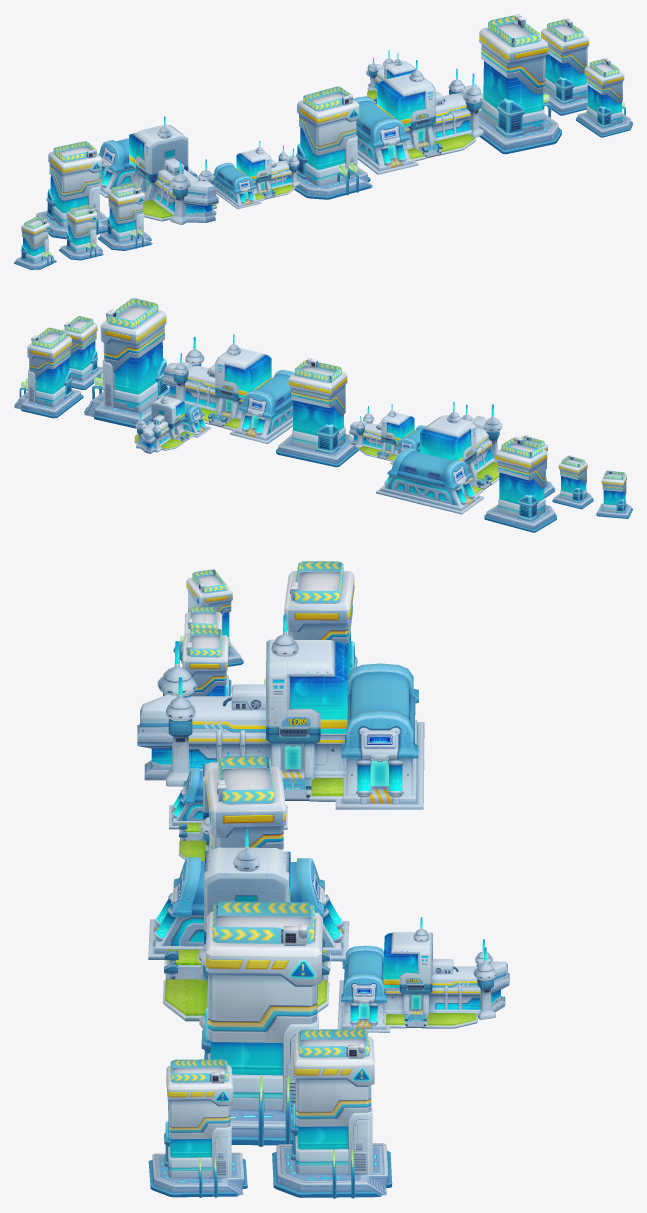
The model's file is level1.glb.
The picture shows the model from 3 angles, top to bottom: view 1: azimuth 30°, elevation 25°; view 2: azimuth 150°, elevation 25°; view 3: azimuth 270°, elevation 25°; orthographic projection. The views are drawn at different scales.
Visible parts, largest first — view 1: xszy_jianzhu_07_xszy_jianzhu_07_0.001, xszy_jianzhu_01_xszy_jianzhu_01_0, xszy_jianzhu_01_xszy_jianzhu_01_0.001, xszy_jianzhu_07_xszy_jianzhu_07_0; view 2: xszy_jianzhu_07_xszy_jianzhu_07_0.001, xszy_jianzhu_01_xszy_jianzhu_01_0.001, xszy_jianzhu_01_xszy_jianzhu_01_0, xszy_jianzhu_07_xszy_jianzhu_07_0; view 3: xszy_jianzhu_07_xszy_jianzhu_07_0.001, xszy_jianzhu_01_xszy_jianzhu_01_0, xszy_jianzhu_01_xszy_jianzhu_01_0.001, xszy_jianzhu_07_xszy_jianzhu_07_0.
Part boxes in pixels (x1,y1,x2,y2): xszy_jianzhu_07_xszy_jianzhu_07_0.001: [294, 14, 632, 199]; xszy_jianzhu_01_xszy_jianzhu_01_0: [98, 116, 299, 224]; xszy_jianzhu_01_xszy_jianzhu_01_0.001: [353, 50, 483, 174]; xszy_jianzhu_07_xszy_jianzhu_07_0: [14, 141, 152, 269]; xszy_jianzhu_07_xszy_jianzhu_07_0.001: [14, 298, 358, 467]; xszy_jianzhu_01_xszy_jianzhu_01_0.001: [134, 334, 294, 453]; xszy_jianzhu_01_xszy_jianzhu_01_0: [349, 402, 502, 514]; xszy_jianzhu_07_xszy_jianzhu_07_0: [484, 435, 632, 532]; xszy_jianzhu_07_xszy_jianzhu_07_0.001: [148, 756, 392, 1198]; xszy_jianzhu_01_xszy_jianzhu_01_0: [137, 614, 424, 861]; xszy_jianzhu_01_xszy_jianzhu_01_0.001: [148, 829, 509, 1032]; xszy_jianzhu_07_xszy_jianzhu_07_0: [173, 561, 357, 696].
Bounding box in the file's own units: 73.93 × 12.34 × 20.67.
Materials: 2 (2 with a texture image).
